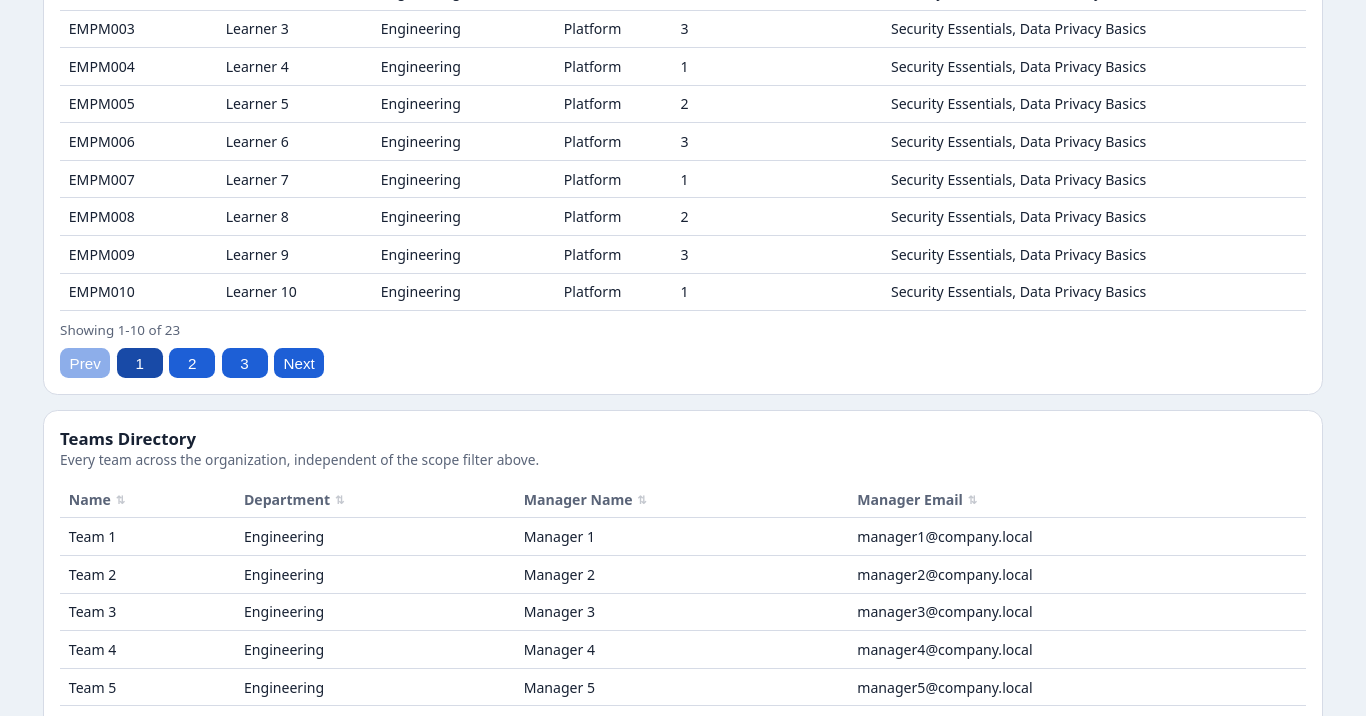
App Mandatory Course Gaps pagination › shows paged rows and navigates to next page
This screenshot has width=1366, height=716.
(page scrolled)
Expected: the text "EMPM011" is not shown
What coordinates should you click on to do the following:
click the button "Next"
I would click on:
 (299, 363)
Its box is top-left (274, 348), bottom-right (324, 378).
(page scrolled)
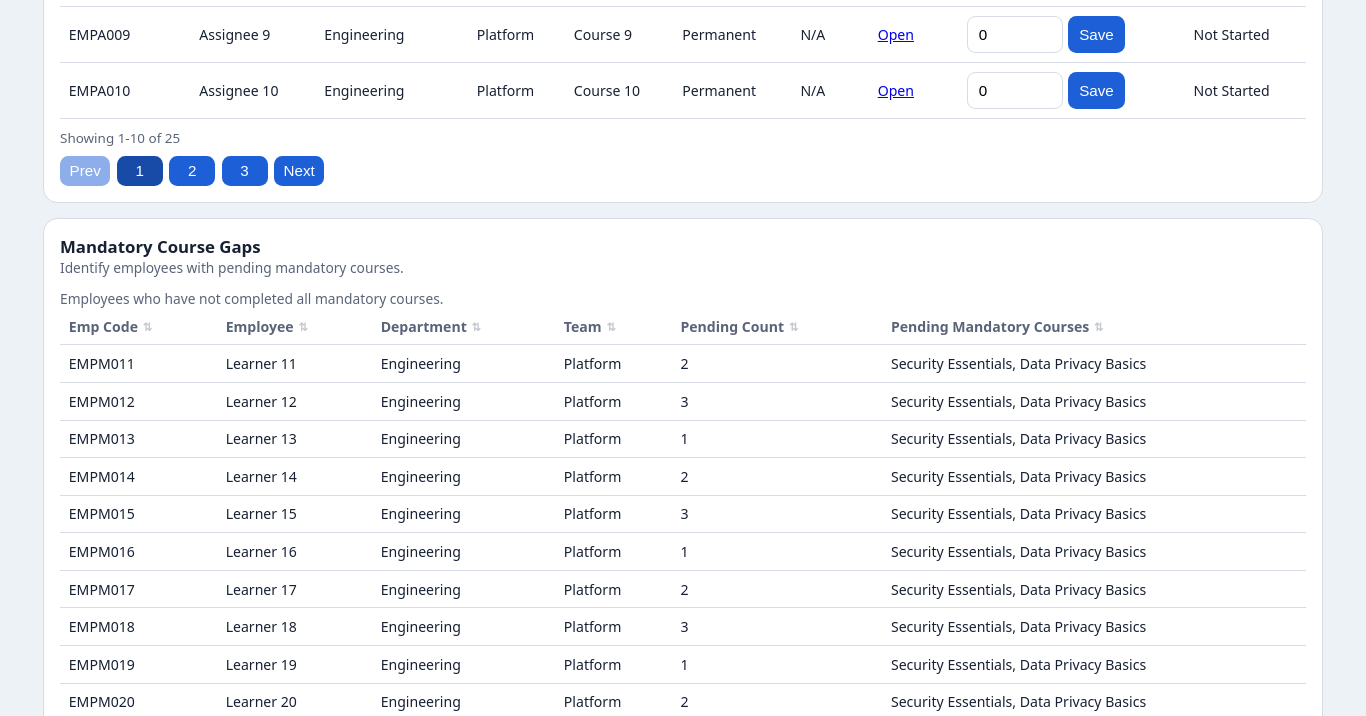
Now the text "EMPM011" is shown, box top-left (60, 345), bottom-right (217, 382)
